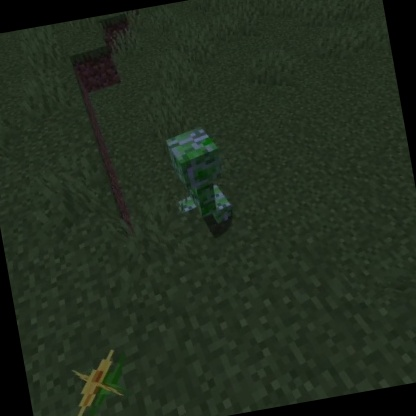creeper: (161, 120, 237, 234)
